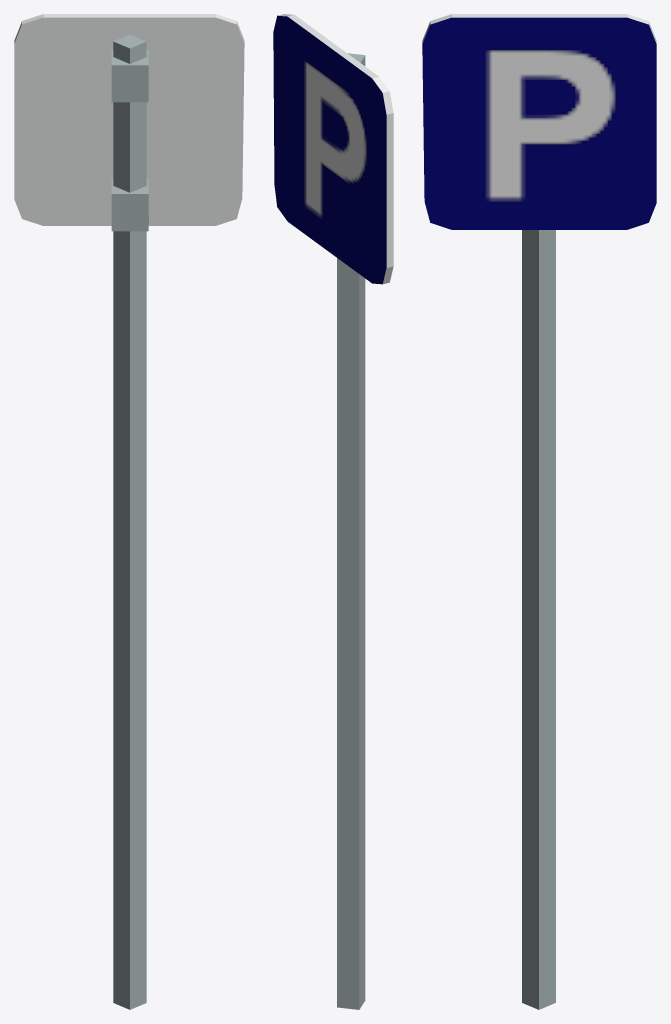
Rendered from parking sign.fbx.
The picture shows the model from 3 angles, left to right: view 1: azimuth 90°, elevation 25°; view 2: azimuth 210°, elevation 25°; view 3: azimuth 270°, elevation 25°; orthographic projection. The views are drawn at different scales.
Parts seen in each view (by area): view 1: sign cycle form; view 2: sign cycle form; view 3: sign cycle form.
Boxes of the visible parts, x1,y1,x2,y2 form: sign cycle form: [14, 14, 244, 1009]; sign cycle form: [273, 14, 393, 1009]; sign cycle form: [422, 14, 656, 1009].
Bounding box in the file's own units: 6.1 × 148 × 31.45.
